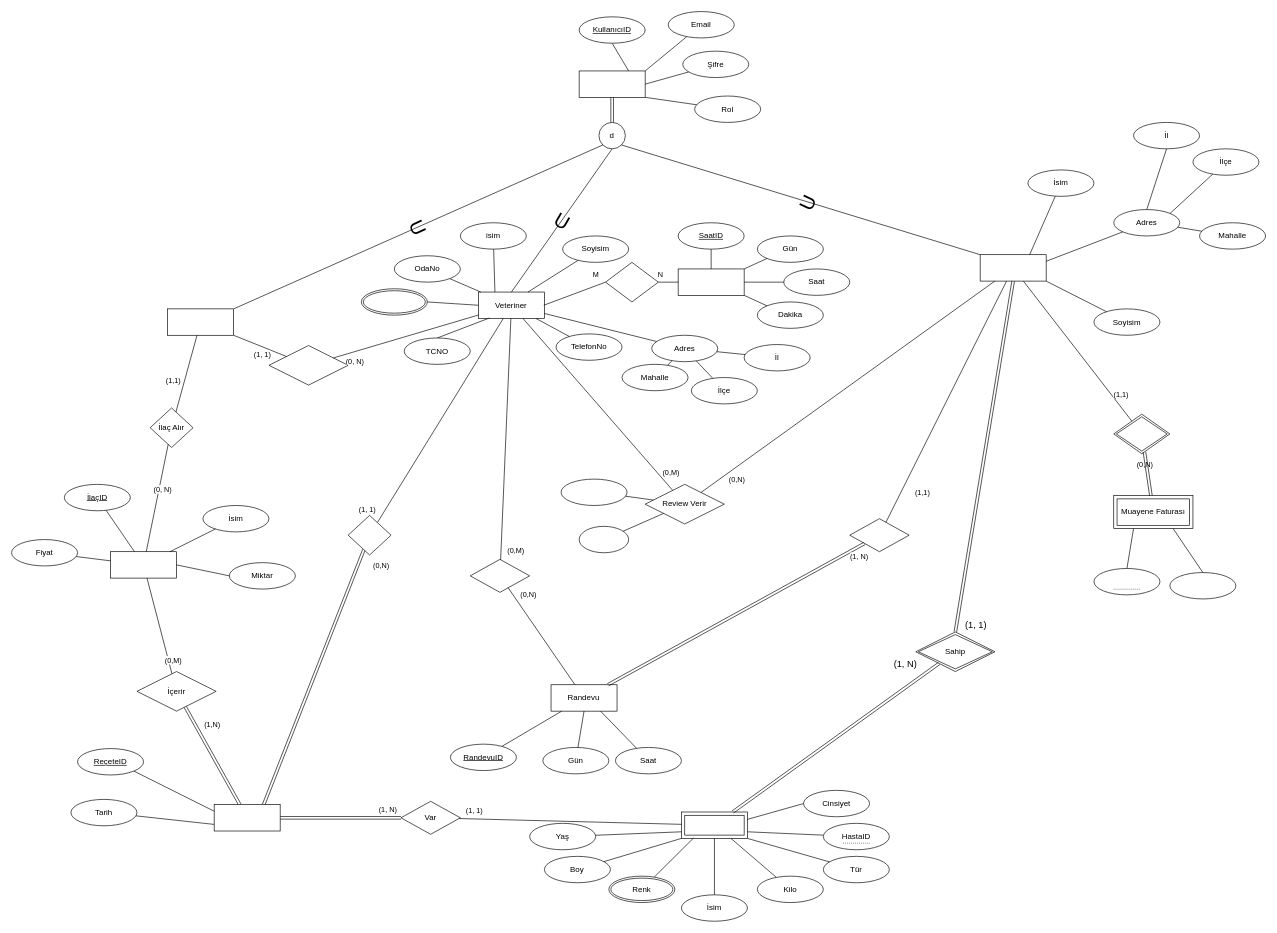
This 1277x933 diagram has some shape labels left out. Here are the shapes that lost their labels. From the top down, the centre of each, then its label:
point (611, 83): Kullanıcı
point (631, 282): Uygundur
point (710, 281): Saatler
point (1013, 267): Hayvan Sahibi
point (200, 321): Admin
point (394, 301): Yetkinlik
point (308, 365): Ekler
point (1141, 433): Öder
point (593, 491): Puan
point (369, 535): Yazar
point (603, 539): Açıklama
point (879, 535): Alır
point (143, 564): İlaçlar
point (500, 575): Verir
point (1126, 581): FaturaID
point (1202, 585): Ücret
point (247, 817): Reçete
point (714, 824): Hasta Hayvan
